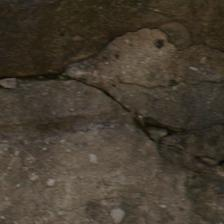Crack: (39, 127, 150, 209), (134, 104, 208, 125)
